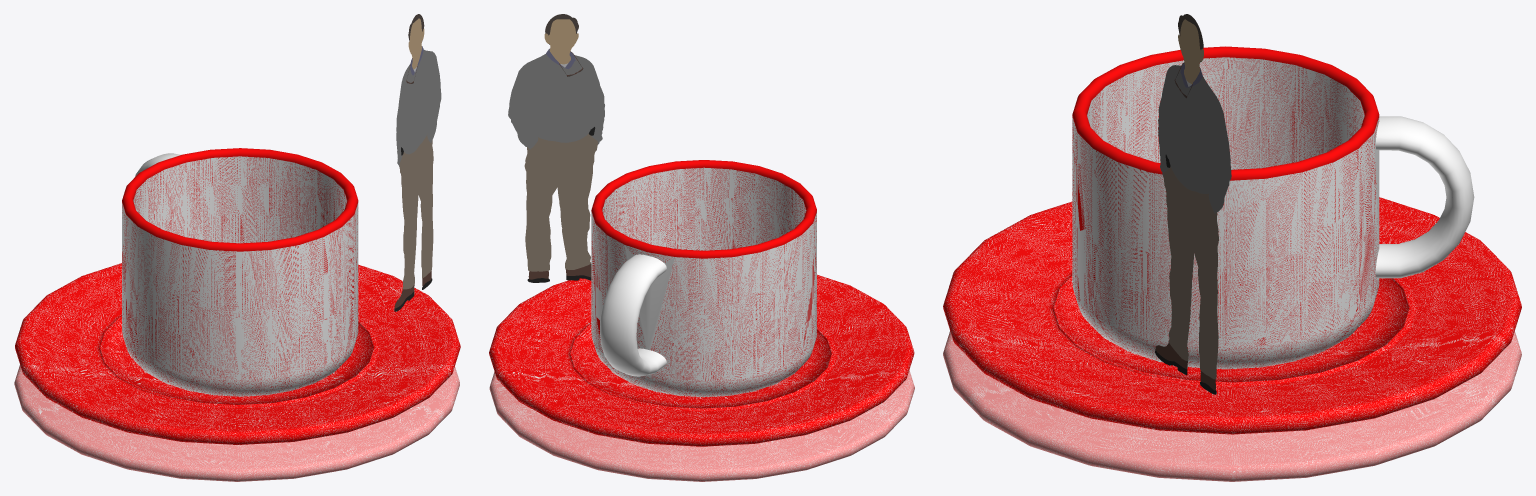
The model's file is cup.dae.
The picture shows the model from 3 angles, left to right: view 1: azimuth 30°, elevation 25°; view 2: azimuth 150°, elevation 25°; view 3: azimuth 270°, elevation 25°; orthographic projection. The views are drawn at different scales.
Visible parts, largest first — view 1: group_1 (×3), group_2, group_4, Derrick (×3); view 2: group_1 (×4), group_2, Derrick (×3), group_4; view 3: group_1 (×4), group_2, group_4, Derrick (×3).
Part boxes in pixels (x1,y1,x2,y2): group_1 (×3): (122,148,358,396); group_2: (15,263,460,444); group_4: (14,365,459,481); Derrick (×3): (396,18,441,289); group_1 (×4): (591,160,816,397); group_2: (489,274,914,446); Derrick (×3): (508,19,604,271); group_4: (489,370,914,481); group_1 (×4): (1072,46,1474,369); group_2: (943,197,1521,434); group_4: (943,331,1521,481); Derrick (×3): (1158,19,1231,379).
Size of what is drawn, in the model's own units: 102 by 99.3 by 85.28.
